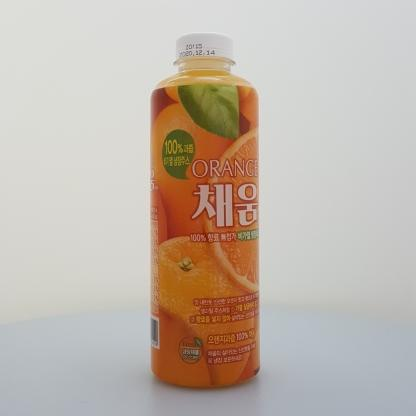-------730ML: (150, 31, 261, 389)
